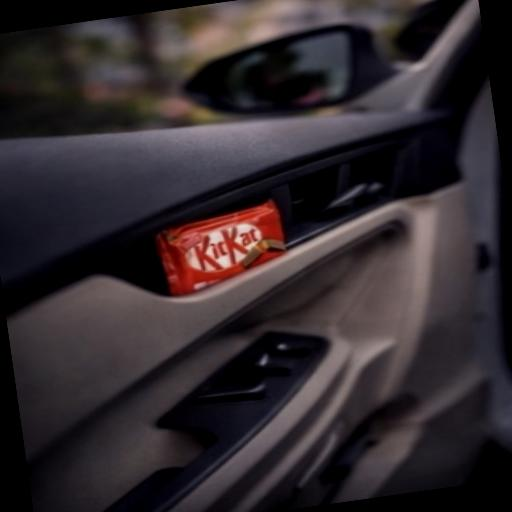kitkat: (109, 156, 398, 346)
